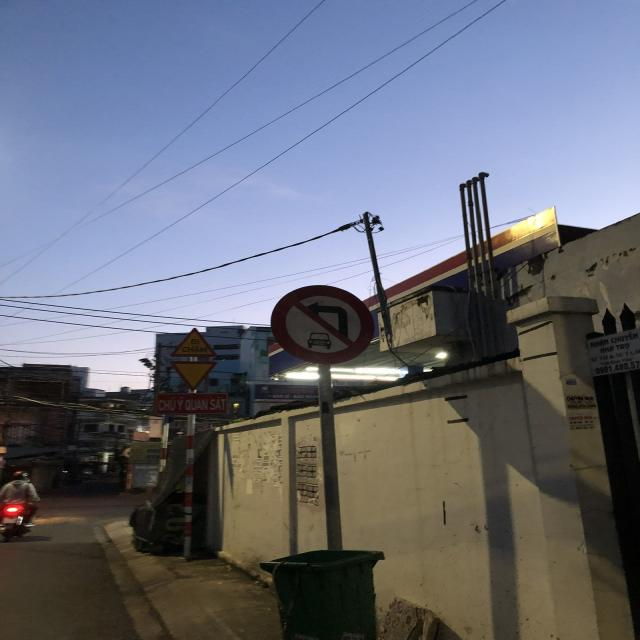Bien bao cam xe o to re trai: (263, 277, 376, 363)
Bien bao di cham: (166, 324, 226, 360)
Bien bao giao nhau voi duong uu tien: (162, 358, 227, 394)
